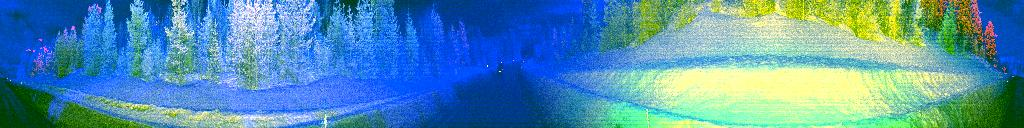pole: (321, 95, 329, 128), (643, 105, 652, 128)
